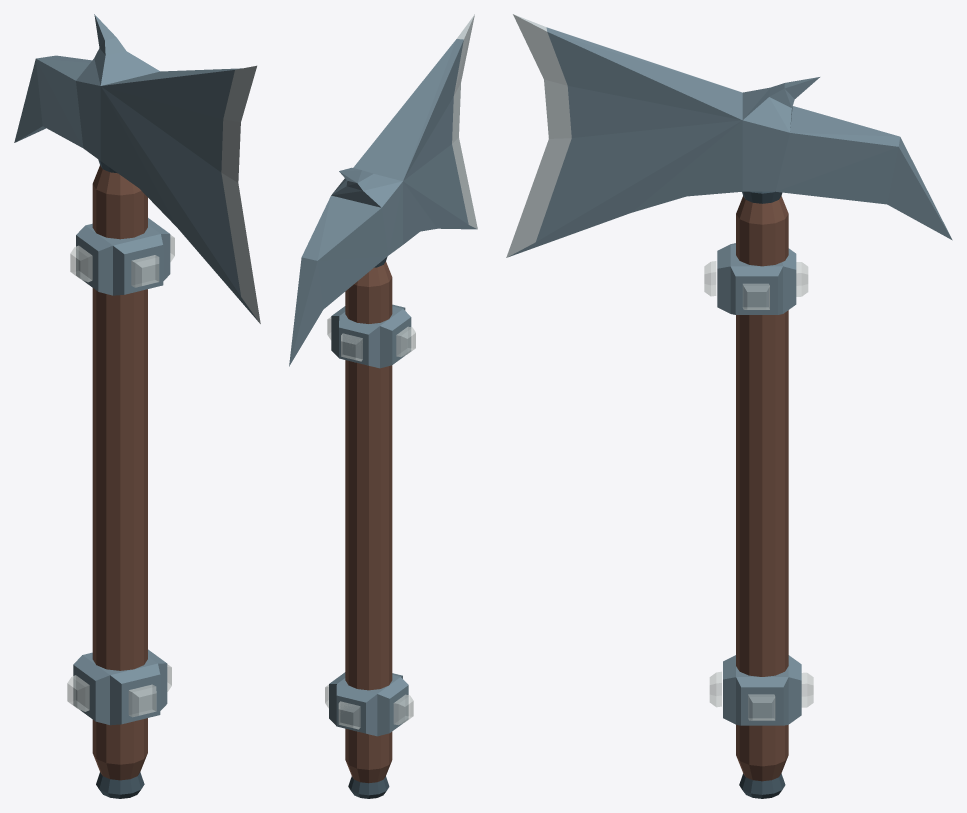
Rendered from scene_rjvX757q8W.glb.
3 renders of one model, left to right at view 1: azimuth 30°, elevation 25°; view 2: azimuth 150°, elevation 25°; view 3: azimuth 270°, elevation 25°, orthographic. The views are drawn at different scales.
Visible parts, largest first — view 1: group2128284662, group141109415, group2067602530, group871693362, group1051143535, group1153421170; view 2: group2128284662, group141109415, group871693362, group2067602530, group1051143535, group1153421170; view 3: group2128284662, group141109415, group2067602530, group871693362, group1153421170, group1051143535.
Boxes of the visible parts, x1,y1,x2,y2 form: group2128284662: (14, 14, 260, 323); group141109415: (92, 288, 147, 670); group2067602530: (70, 218, 174, 295); group871693362: (67, 649, 171, 725); group1051143535: (92, 718, 147, 798); group1153421170: (92, 159, 147, 239); group2128284662: (289, 14, 477, 366); group141109415: (345, 360, 392, 690); group871693362: (325, 672, 413, 736); group2067602530: (327, 304, 415, 368); group1051143535: (345, 728, 392, 798); group1153421170: (345, 256, 392, 323); group2128284662: (506, 14, 952, 257); group141109415: (736, 310, 788, 676); group2067602530: (704, 243, 808, 314); group871693362: (709, 655, 813, 725); group1153421170: (736, 191, 788, 266); group1051143535: (736, 725, 788, 798).
Bounding box in the file's own units: 0.1583 × 1.31 × 0.68.
